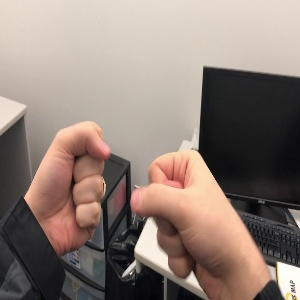hand: (129, 150, 271, 280), (32, 121, 110, 241)
